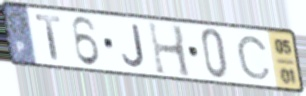0: (199, 27, 232, 82)
6: (70, 14, 102, 68)
C: (235, 34, 274, 81)
H: (145, 19, 194, 80)
J: (120, 23, 147, 70)
T: (33, 13, 63, 63)
